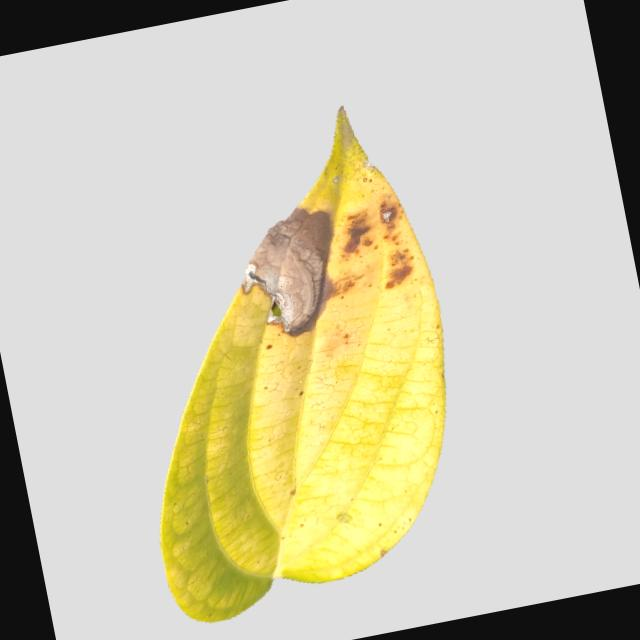leaf-blight: (64, 91, 493, 626)
